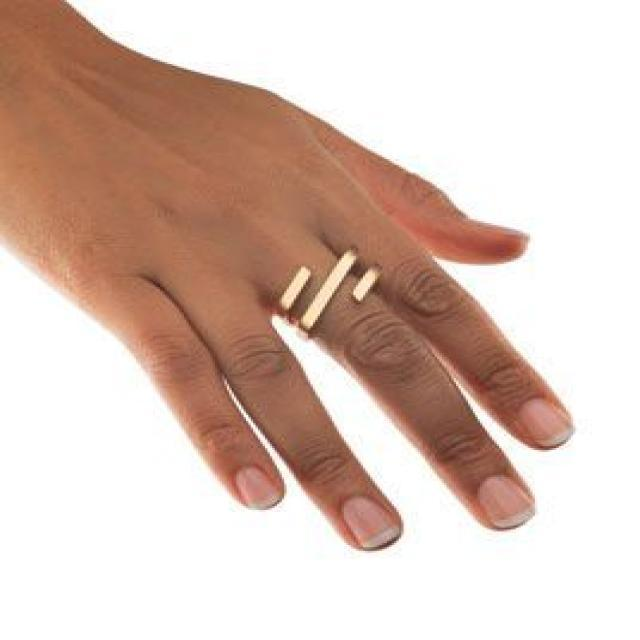Fingernail: (479, 475, 537, 530), (342, 496, 399, 550), (521, 396, 572, 446), (235, 465, 278, 510)
